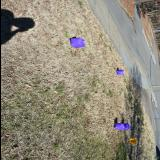cone: (128, 138, 136, 144)
cube: (70, 38, 84, 48), (114, 123, 124, 130), (122, 123, 129, 130), (115, 70, 123, 76)
